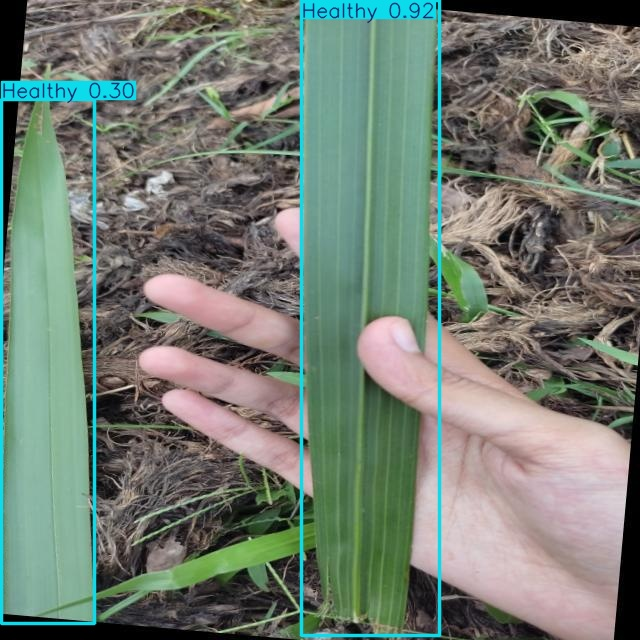Healthy: (302, 1, 439, 636), (2, 99, 94, 624)
